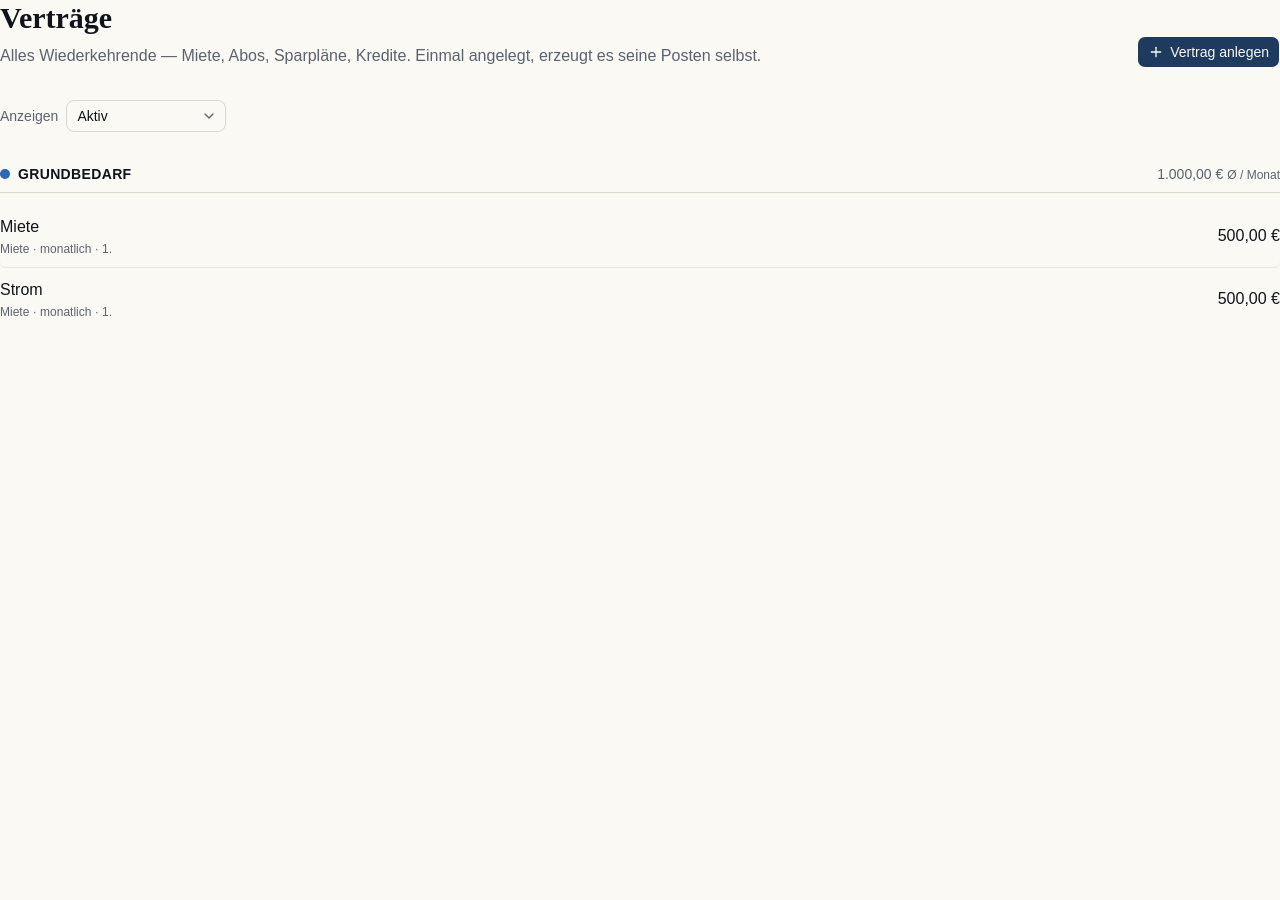
it: CommitmentsPage › the dialog offers Delete only for a commitment that is in no plan yet
Click the button "Strom Miete · monatlich · 1." at (21, 290), box [0,278,1206,320]
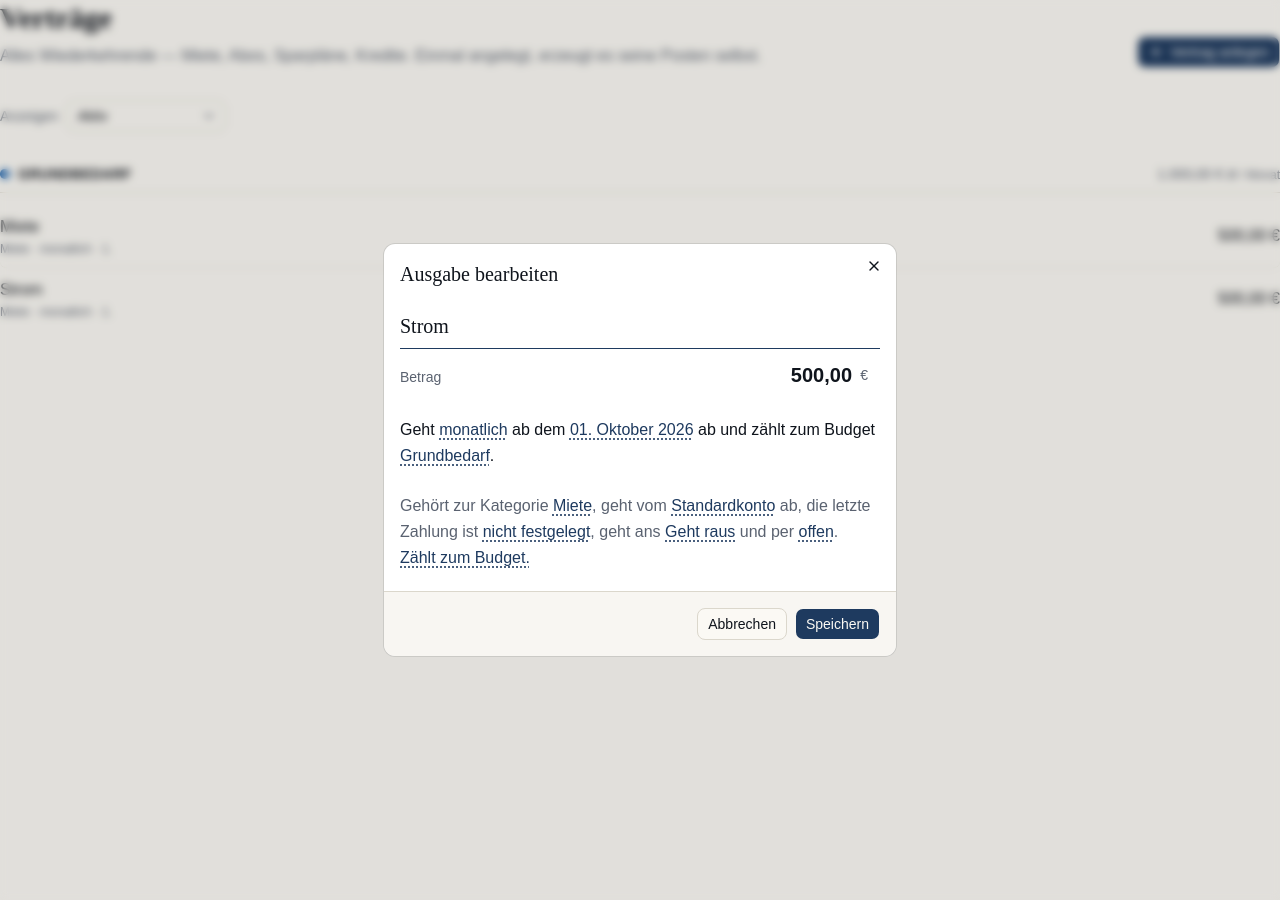
Result: the dialog is shown at [384,244,896,656]
